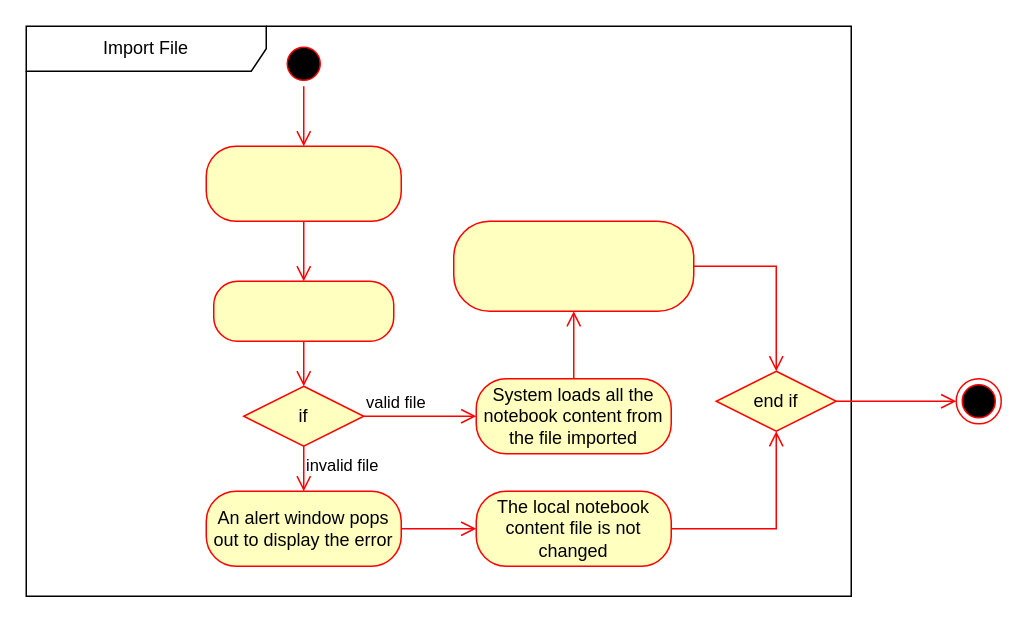
The diagram is 1028 pixels wide and 623 high, and some of its shapes have lost their labels. Each missing label, with the centre of its shape:
"The local file is replaced by the imported file for further saving changes" goes at [573,265].
"User choose the file to import" goes at [303,310].
"User clicks Import option through the menu bar" goes at [303,183].
